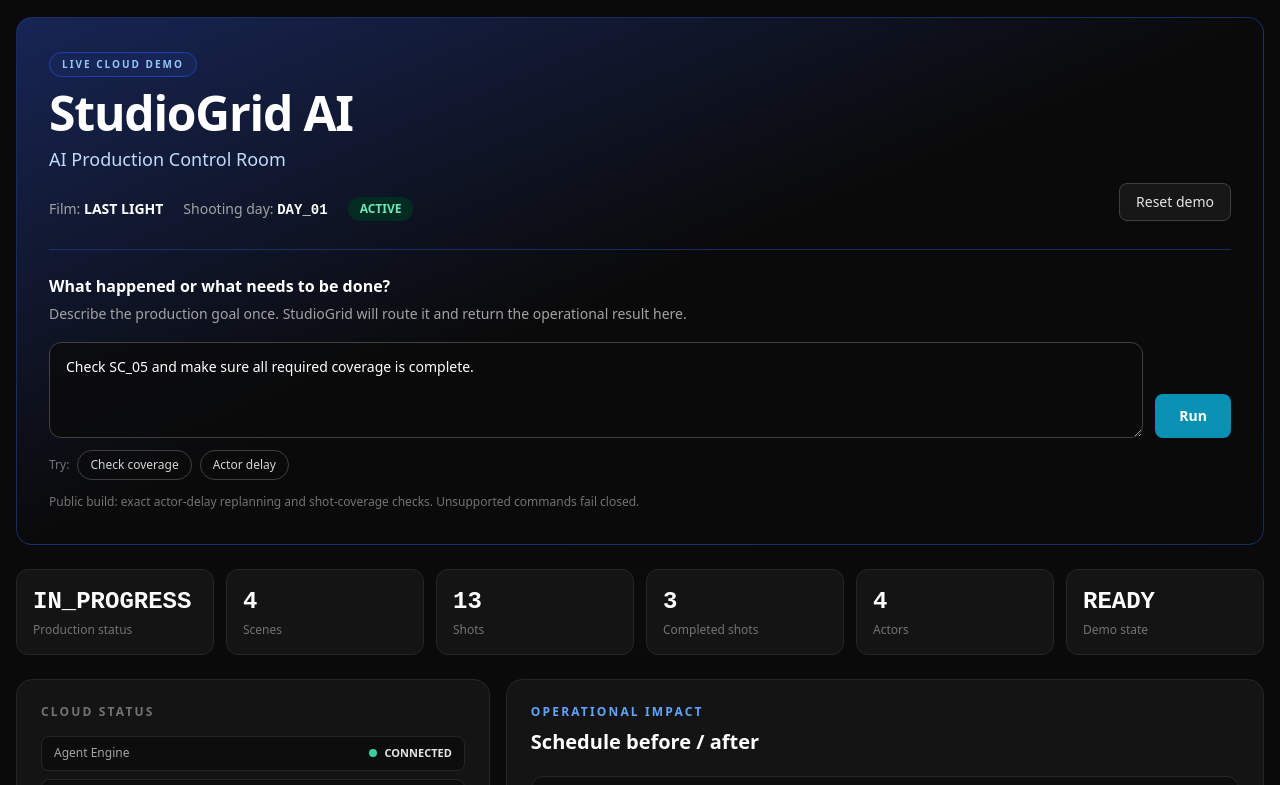
Test: Production Command contextual dashboard › shows a pending Schedule workflow without applying the proposed order
expect the heading "StudioGrid AI" is shown: met, box [49,80,353,145]
Click the button "Actor delay" at (244, 465), box [200,450,289,480]
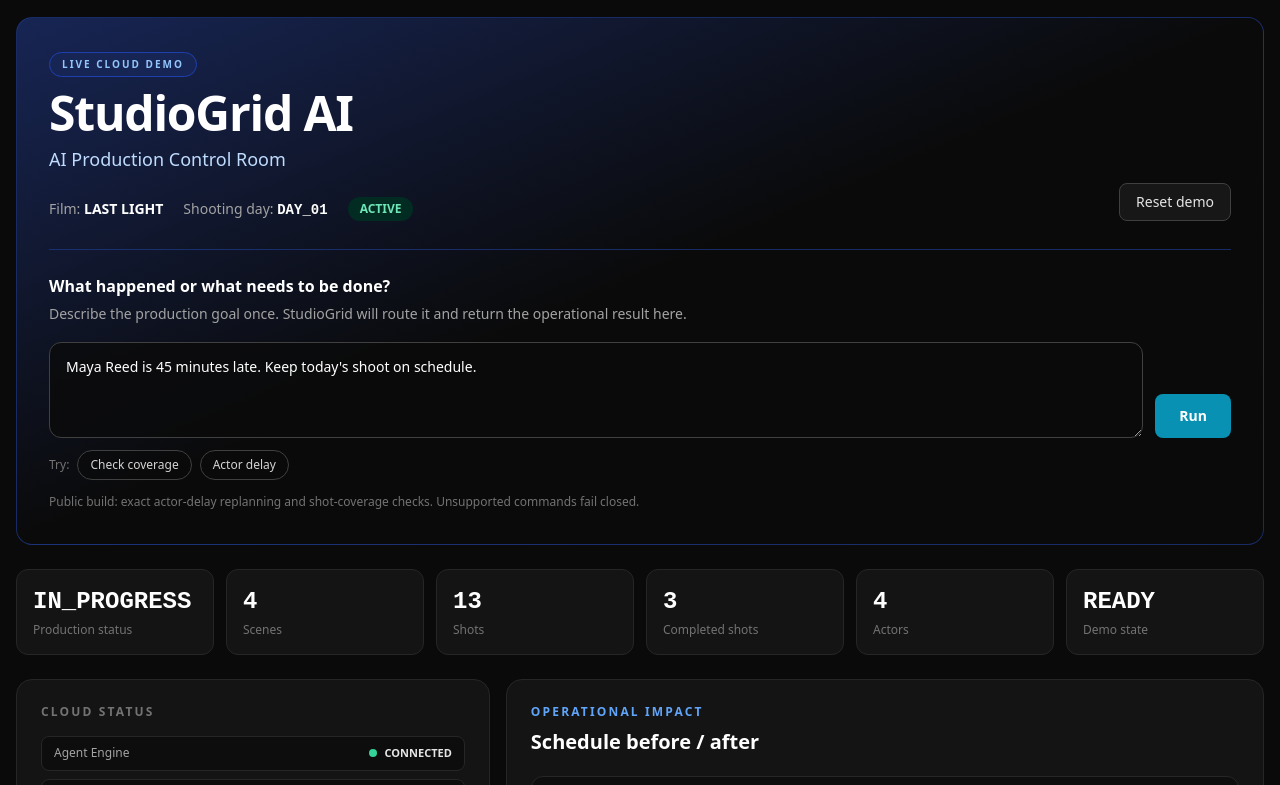
Click the button "Run" at (1193, 416), box [1155,394,1231,438]
(page scrolled)
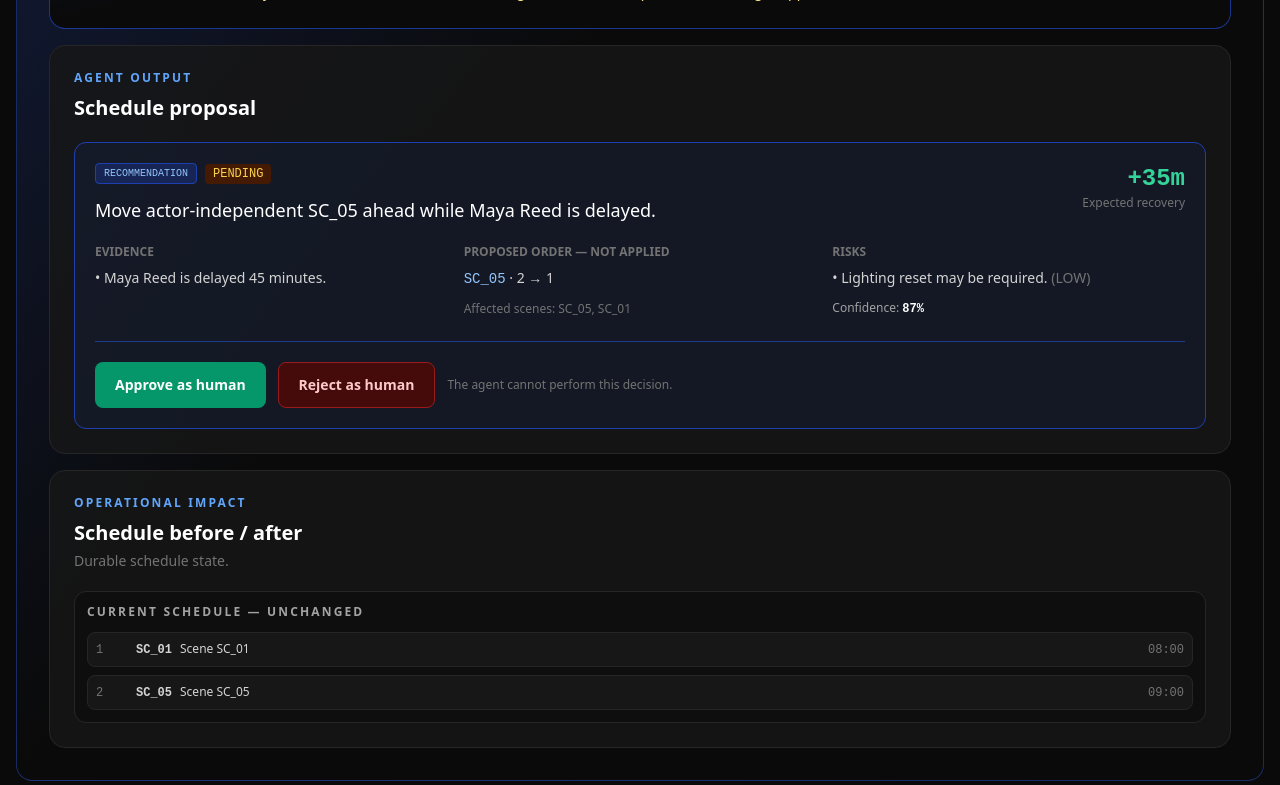
expect the text "PENDING" is shown: met, box [205,164,271,184]
expect the heading "Current schedule — unchanged" is shown: met, box [87,603,364,620]
expect the heading "Proposed order — not applied" is shown: met, box [464,243,670,260]
